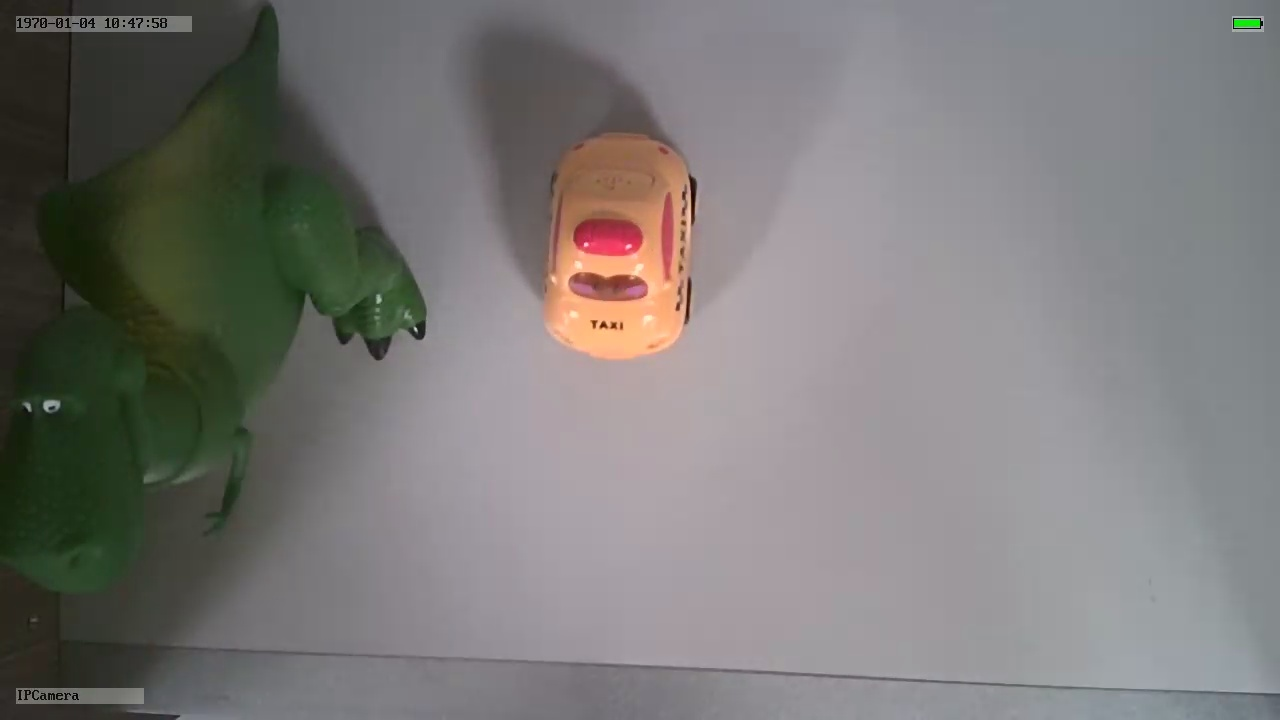car: (541, 128, 698, 363)
